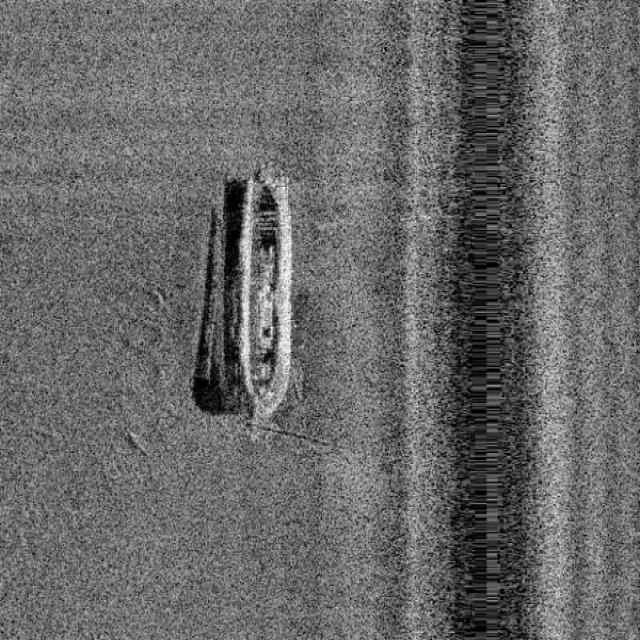shipwreck: (236, 175, 294, 422)
